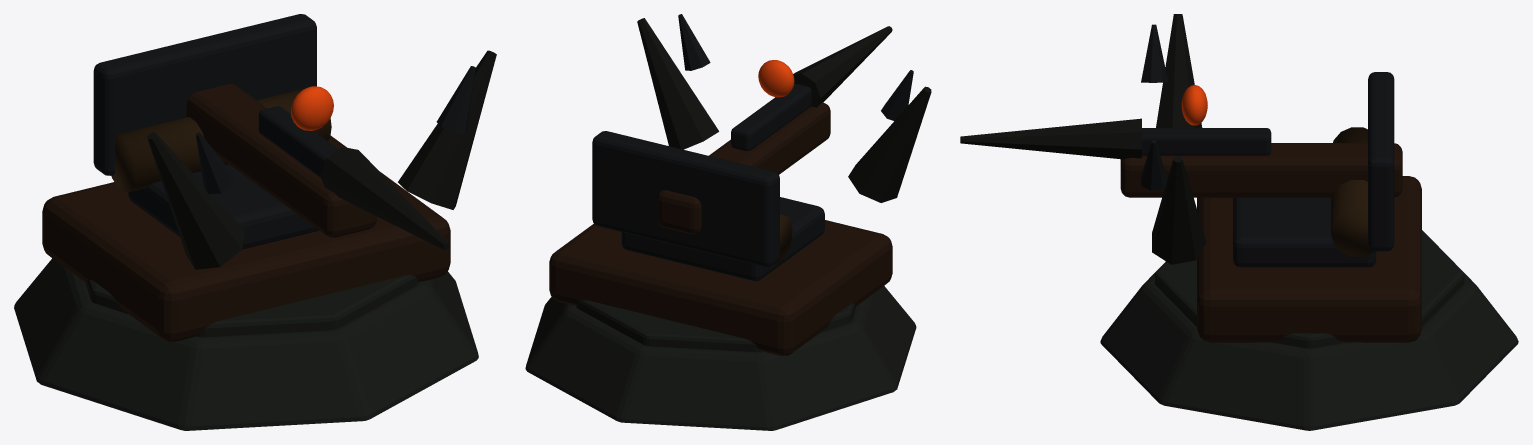
The model's file is TowerDemon1.obj.
The picture shows the model from 3 angles, left to right: view 1: azimuth 30°, elevation 25°; view 2: azimuth 150°, elevation 25°; view 3: azimuth 270°, elevation 25°; orthographic projection. The views are drawn at different scales.
Visible parts, largest first — view 1: charred_stone_footing_lower_course, dark_oak_altar_bed, iron_horn_mantle, demon_stock, charred_stone_footing_upper_course, bone_bow_limb, black_iron_pivot, bone_bow_limb.001, bone_demon_bolt, bronze_blood_winch, iron_demon_guide, amber_cursed_sight (+2 smaller); view 2: charred_stone_footing_lower_course, dark_oak_altar_bed, iron_horn_mantle, demon_stock, charred_stone_footing_upper_course, bone_bow_limb.001, black_iron_pivot, bone_bow_limb, bone_demon_bolt, iron_demon_guide, amber_cursed_sight, iron_limb_thorn.001 (+2 smaller); view 3: charred_stone_footing_lower_course, dark_oak_altar_bed, demon_stock, black_iron_pivot, charred_stone_footing_upper_course, iron_horn_mantle, bone_demon_bolt, bone_bow_limb.001, iron_demon_guide, bronze_blood_winch, bone_bow_limb, iron_limb_thorn (+2 smaller).
Part boxes in pixels (x1,y1,x2,y2): charred_stone_footing_lower_course: [14, 258, 478, 430]; dark_oak_altar_bed: [42, 135, 450, 341]; iron_horn_mantle: [93, 14, 316, 175]; demon_stock: [186, 84, 376, 237]; charred_stone_footing_upper_course: [85, 275, 418, 337]; bone_bow_limb: [147, 132, 244, 269]; black_iron_pivot: [128, 164, 319, 249]; bone_bow_limb.001: [398, 50, 496, 209]; bone_demon_bolt: [320, 147, 450, 250]; bronze_blood_winch: [111, 88, 331, 192]; iron_demon_guide: [258, 106, 338, 177]; amber_cursed_sight: [291, 86, 333, 130]; charred_stone_footing_lower_course: [525, 286, 916, 430]; dark_oak_altar_bed: [549, 220, 892, 355]; iron_horn_mantle: [592, 131, 779, 266]; demon_stock: [657, 102, 830, 234]; charred_stone_footing_upper_course: [576, 300, 856, 352]; bone_bow_limb.001: [637, 18, 718, 149]; black_iron_pivot: [621, 197, 824, 281]; bone_bow_limb: [848, 86, 931, 202]; bone_demon_bolt: [793, 26, 892, 107]; iron_demon_guide: [731, 83, 811, 150]; amber_cursed_sight: [758, 60, 794, 97]; iron_limb_thorn.001: [678, 14, 710, 70]; charred_stone_footing_lower_course: [1100, 242, 1518, 430]; dark_oak_altar_bed: [1197, 176, 1421, 342]; demon_stock: [1120, 143, 1402, 197]; black_iron_pivot: [1233, 197, 1376, 267]; charred_stone_footing_upper_course: [1154, 230, 1464, 348]; iron_horn_mantle: [1368, 72, 1394, 251]; bone_demon_bolt: [960, 118, 1141, 159]; bone_bow_limb.001: [1152, 155, 1206, 264]; iron_demon_guide: [1142, 128, 1271, 155]; bronze_blood_winch: [1331, 127, 1374, 256]; bone_bow_limb: [1156, 14, 1202, 127]; iron_limb_thorn: [1141, 24, 1168, 82].
Bounding box in the file's own units: 1.75 × 1.2 × 2.33.
